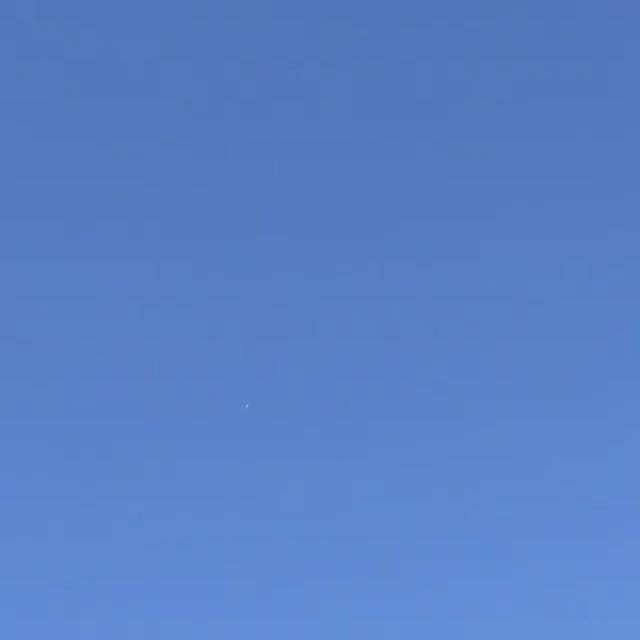AirPlane: (233, 386, 261, 422)
